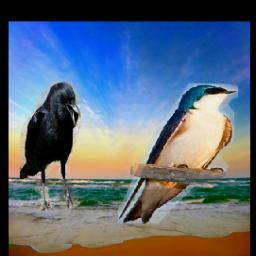Crow: (19, 83, 80, 211)
Swallow: (117, 84, 237, 224)
